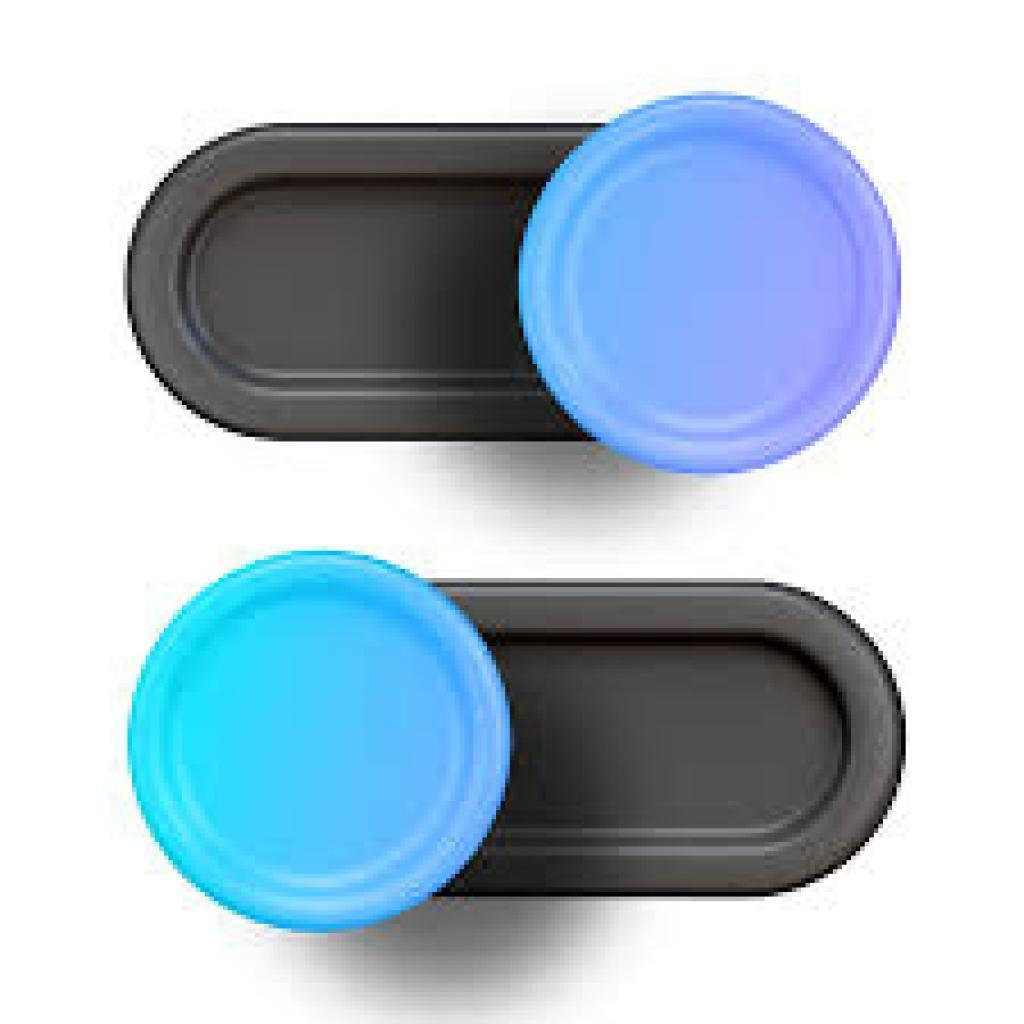switch: (124, 87, 904, 484), (125, 544, 908, 935)
